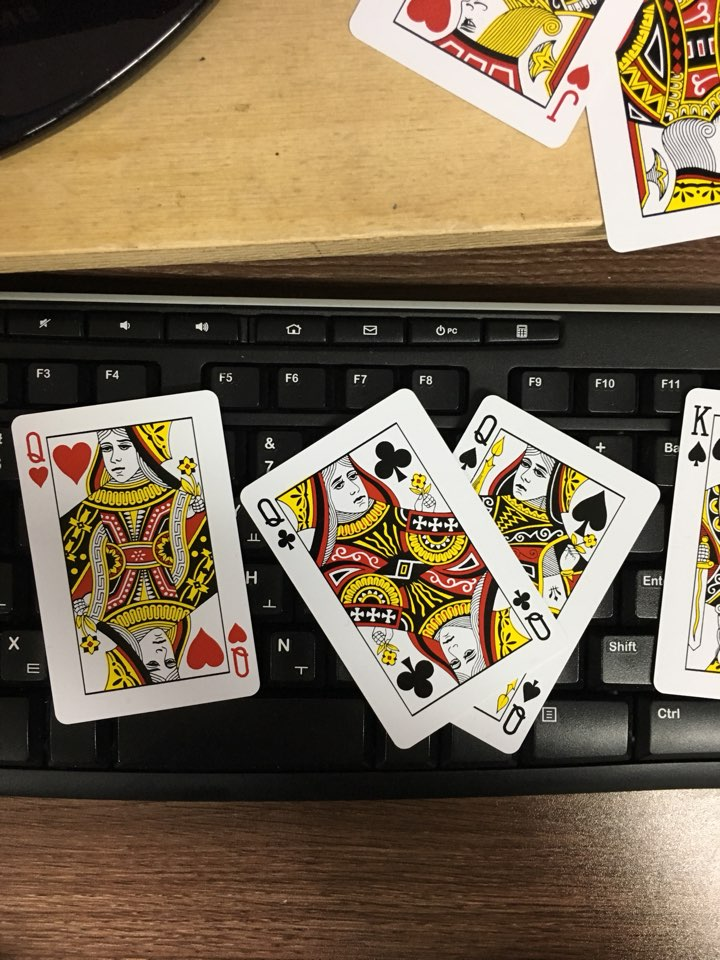jack: (327, 1, 643, 165)
king: (556, 1, 718, 296), (645, 371, 720, 726)
queen: (231, 373, 572, 749), (373, 386, 669, 763), (5, 376, 275, 737)
